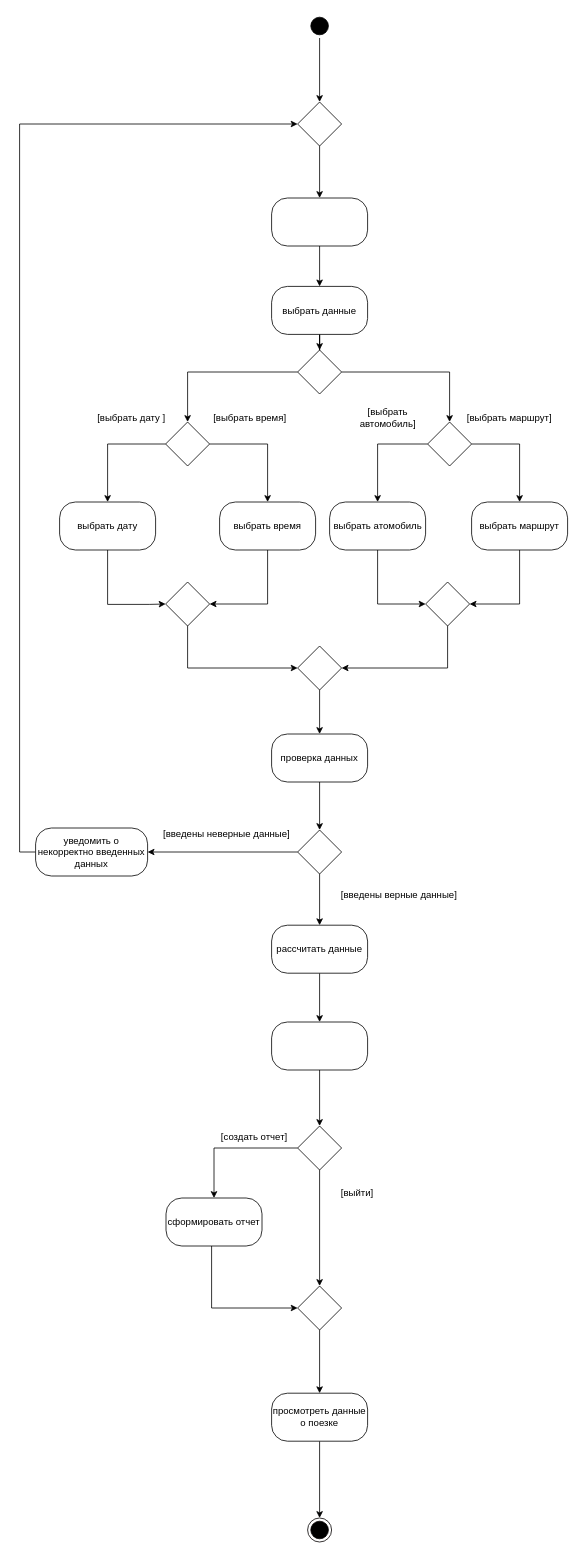
Some shapes in this 582 by 1556 pixel diagram are drawn without their labels. The box of each missing label's shape, as (x1, y1, x2, y2) in pixels:
выбрать дальнейшие действия: (271, 1021, 368, 1070)
заполнить данные о поездке: (271, 197, 368, 246)
